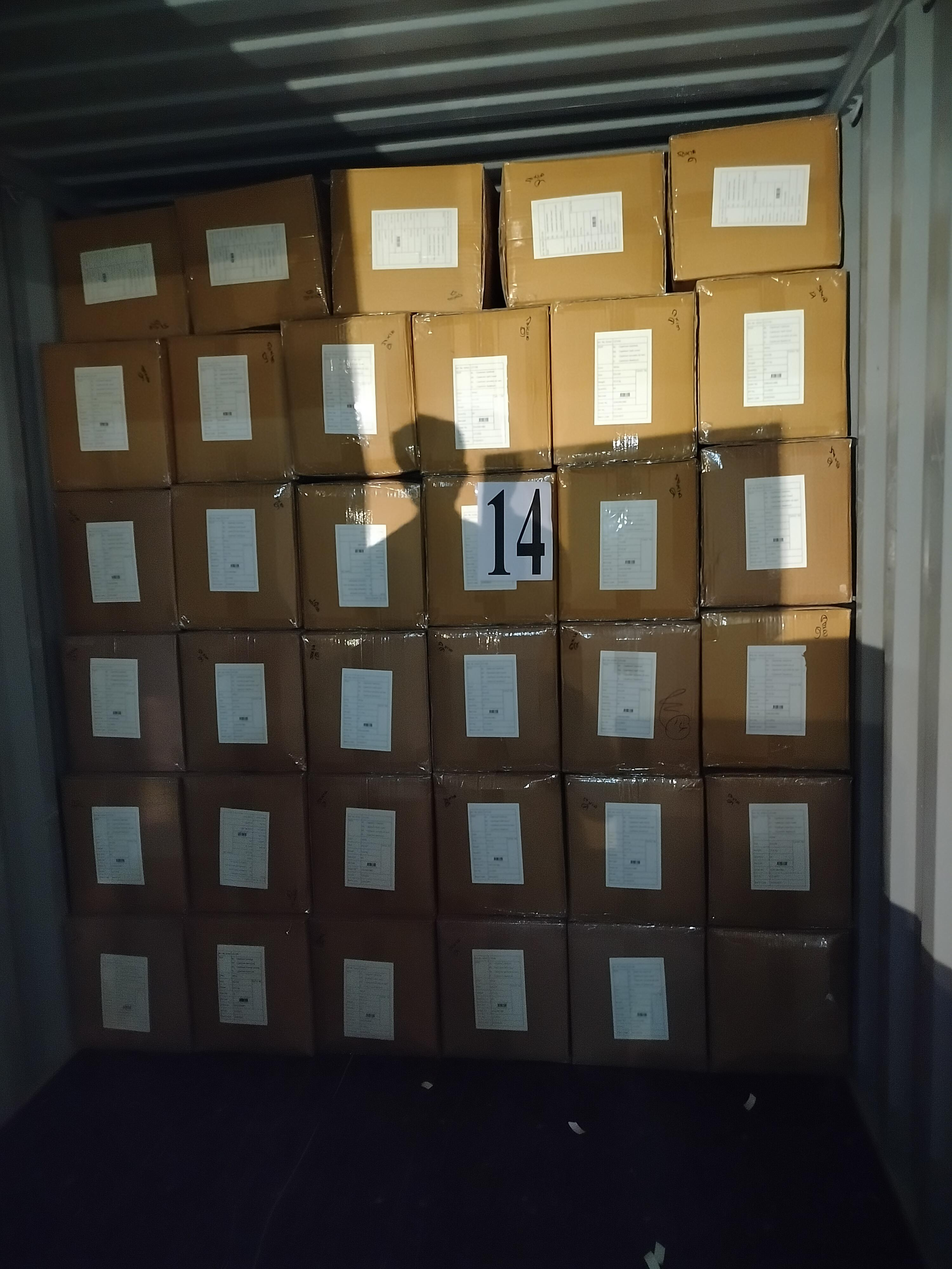carton: (668, 113, 839, 286), (691, 269, 844, 444), (701, 439, 851, 614), (499, 150, 664, 303), (549, 290, 691, 463), (328, 165, 490, 315), (705, 608, 852, 769), (175, 176, 328, 329), (407, 307, 545, 474), (556, 459, 697, 620), (704, 772, 850, 924), (560, 617, 700, 775), (285, 314, 417, 476), (565, 918, 706, 1066), (423, 469, 558, 622), (563, 777, 703, 923), (707, 927, 850, 1069), (424, 624, 559, 774), (38, 338, 170, 488), (167, 328, 295, 481), (432, 773, 567, 916), (170, 481, 298, 631), (437, 918, 571, 1061), (295, 478, 422, 628), (50, 205, 188, 342), (175, 629, 305, 774), (52, 489, 177, 637), (300, 629, 426, 774), (308, 914, 437, 1054), (307, 776, 434, 916), (185, 912, 310, 1051), (57, 777, 184, 913), (60, 631, 184, 770), (65, 913, 189, 1052), (182, 773, 307, 908)
